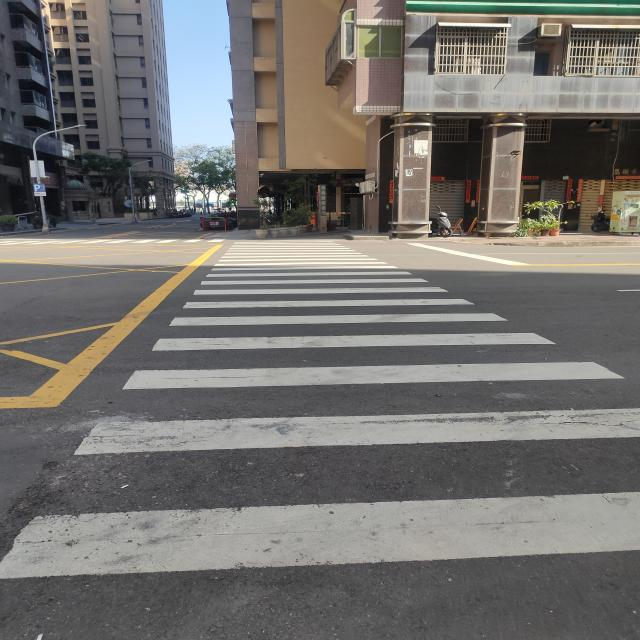zebra_crossing: (238, 127, 473, 369), (0, 123, 115, 366)
